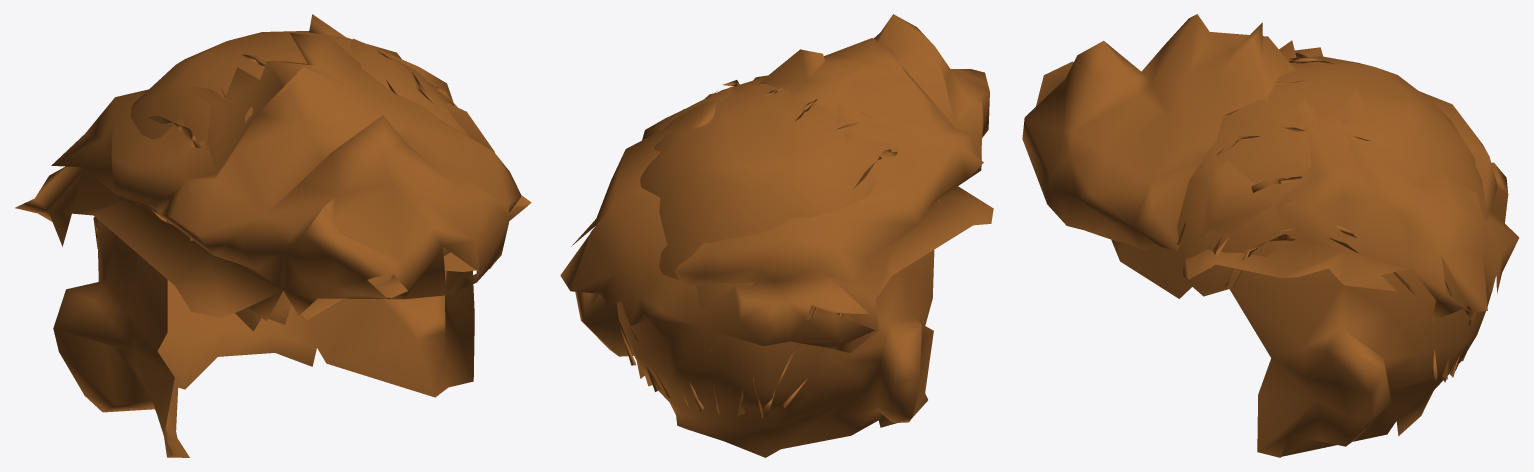
Rendered from quiff.glb.
3 renders of one model, left to right at view 1: azimuth 30°, elevation 25°; view 2: azimuth 150°, elevation 25°; view 3: azimuth 270°, elevation 25°, orthographic. The views are drawn at different scales.
Parts seen in each view (by area): view 1: Hair, HairScalp, HairPulledRootStrands; view 2: Hair, HairScalp, HairPulledRootStrands; view 3: Hair, HairScalp, HairPulledRootStrands.
Part boxes in pixels (x1,y1,x2,y2): Hair: [15, 14, 531, 321]; HairScalp: [53, 31, 492, 457]; HairPulledRootStrands: [93, 50, 457, 248]; Hair: [560, 14, 993, 352]; HairScalp: [575, 77, 934, 457]; HairPulledRootStrands: [620, 76, 939, 418]; Hair: [1022, 14, 1519, 321]; HairScalp: [1111, 56, 1492, 457]; HairPulledRootStrands: [1177, 53, 1470, 382].
Bounding box in the file's own units: 0.459 × 0.4423 × 0.5339.
